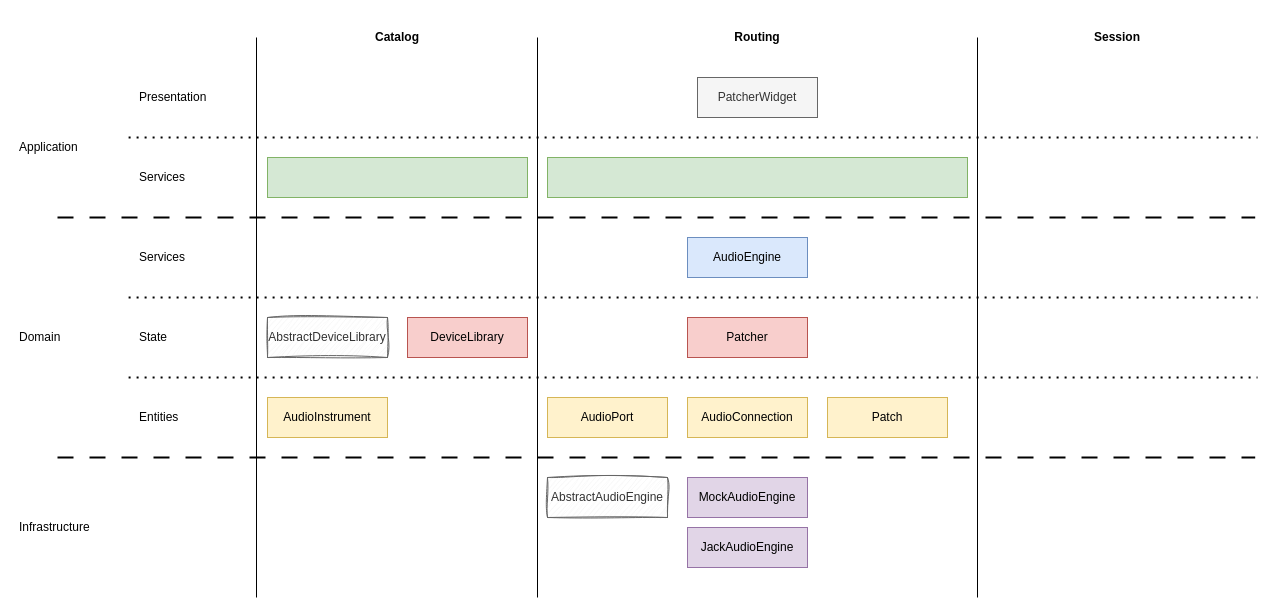
Some shapes in this 1276 by 616 pixel diagram are drawn without their labels. The shapes that lost their labels are listed below. From the top down, each one's centre as x and y in pixels, then its label:
At (397,177): "CatalogService".
At (757,177): "RoutingService".
